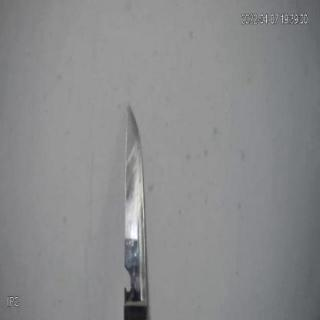knife: (120, 97, 159, 319)
